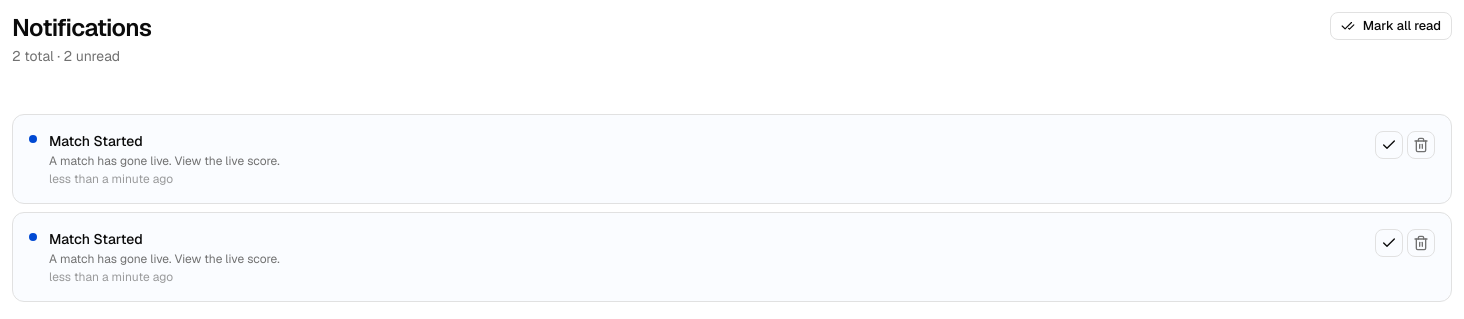
Test: NotificationsPage › applies optimistic update when marking all as read
The width and height of the screenshot is (1464, 319).
Expected: the text "2 total · 2 unread" is shown, [12,47,120,65]
What coordinates should you click on to do the following:
click the button "Mark all read"
I would click on:
 (1391, 26)
Its box is [1330,12,1452,40].
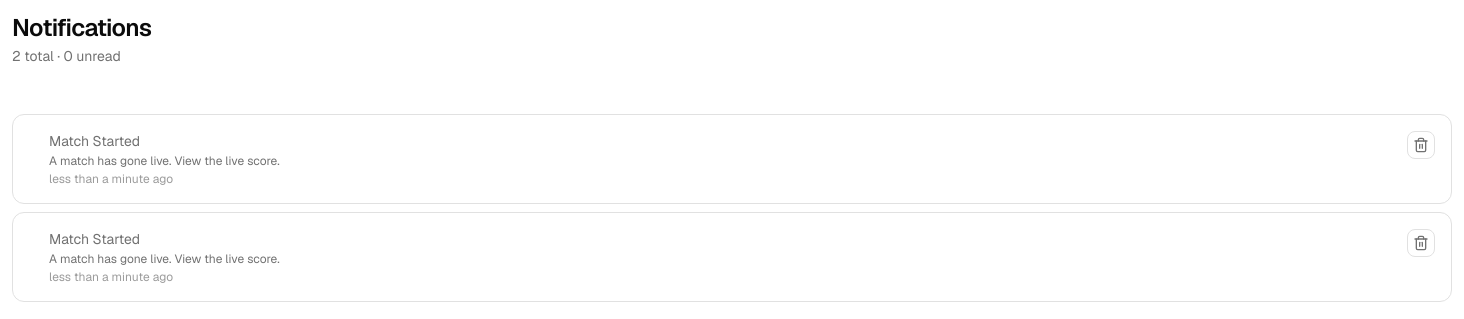
Now the text "2 total · 0 unread" is shown, box [12,47,121,65]
